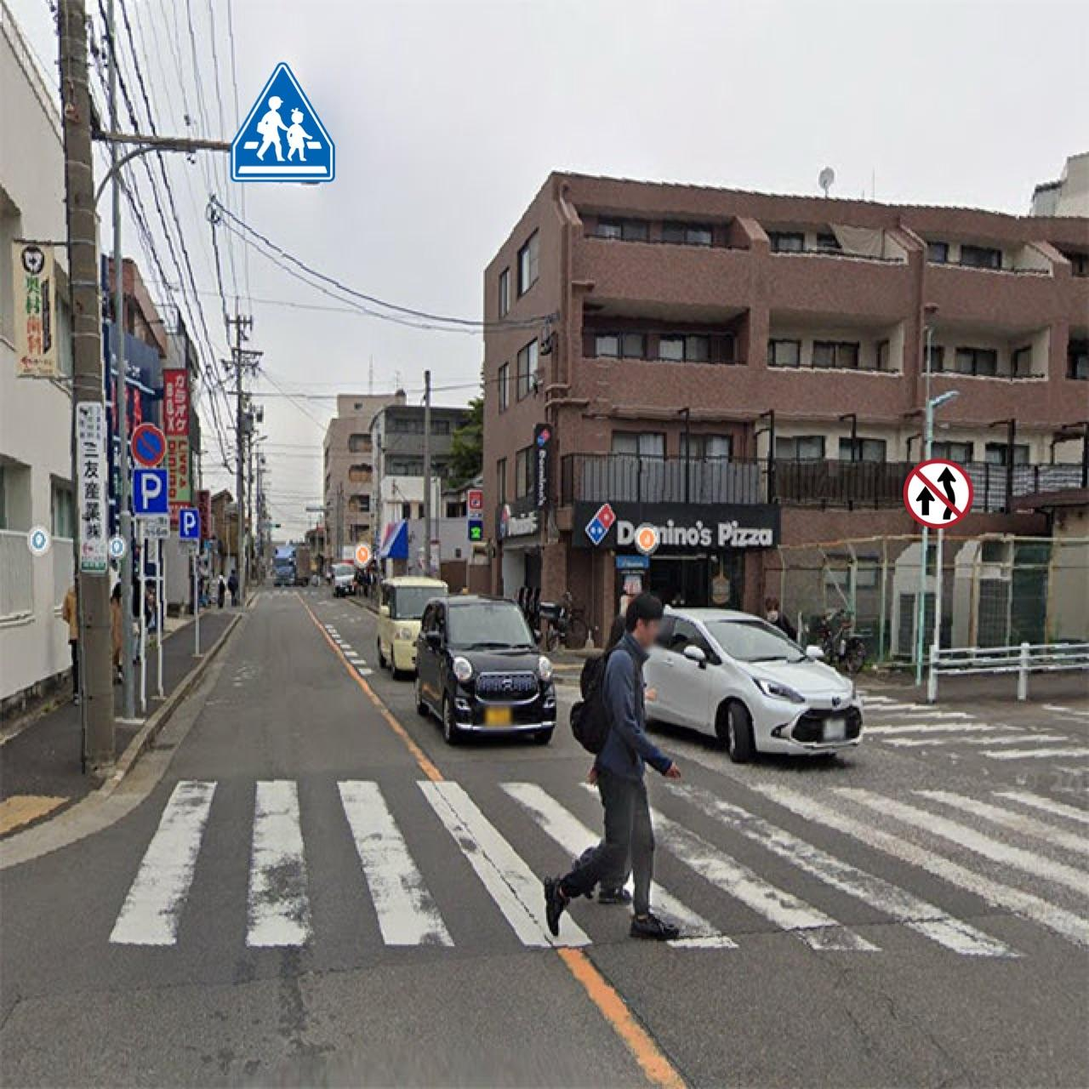cone: (64, 91, 399, 271)
